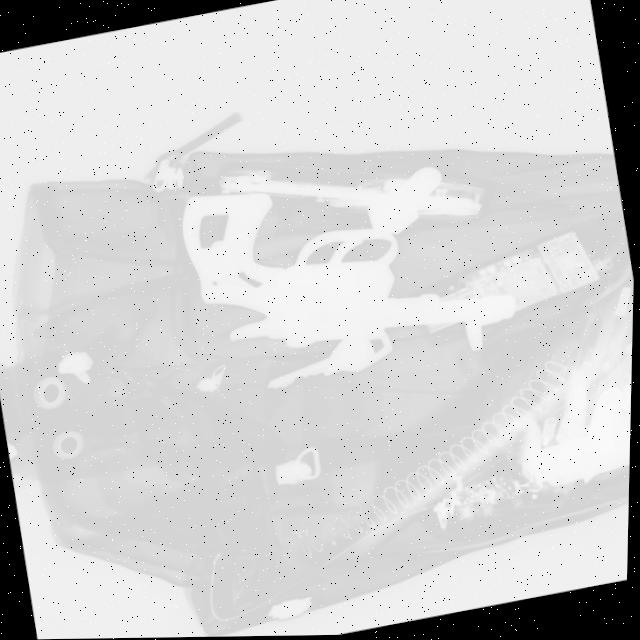pistol: (167, 135, 530, 382)
